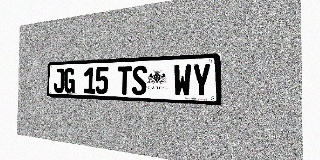1: (83, 67, 95, 94)
5: (96, 67, 108, 94)
G: (64, 68, 75, 93)
J: (54, 68, 64, 93)
S: (132, 65, 147, 95)
T: (118, 66, 132, 95)
W: (173, 64, 191, 97)
Y: (192, 63, 211, 97)
